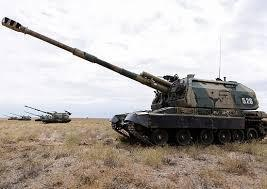sau: (1, 11, 267, 146), (20, 101, 73, 127), (8, 109, 33, 125), (2, 112, 20, 122)
